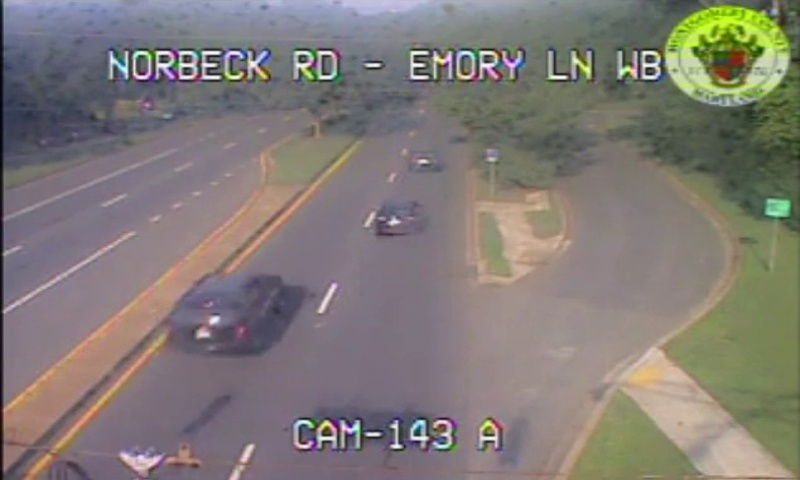car: (169, 272, 285, 354), (373, 201, 421, 233), (406, 151, 439, 171)
